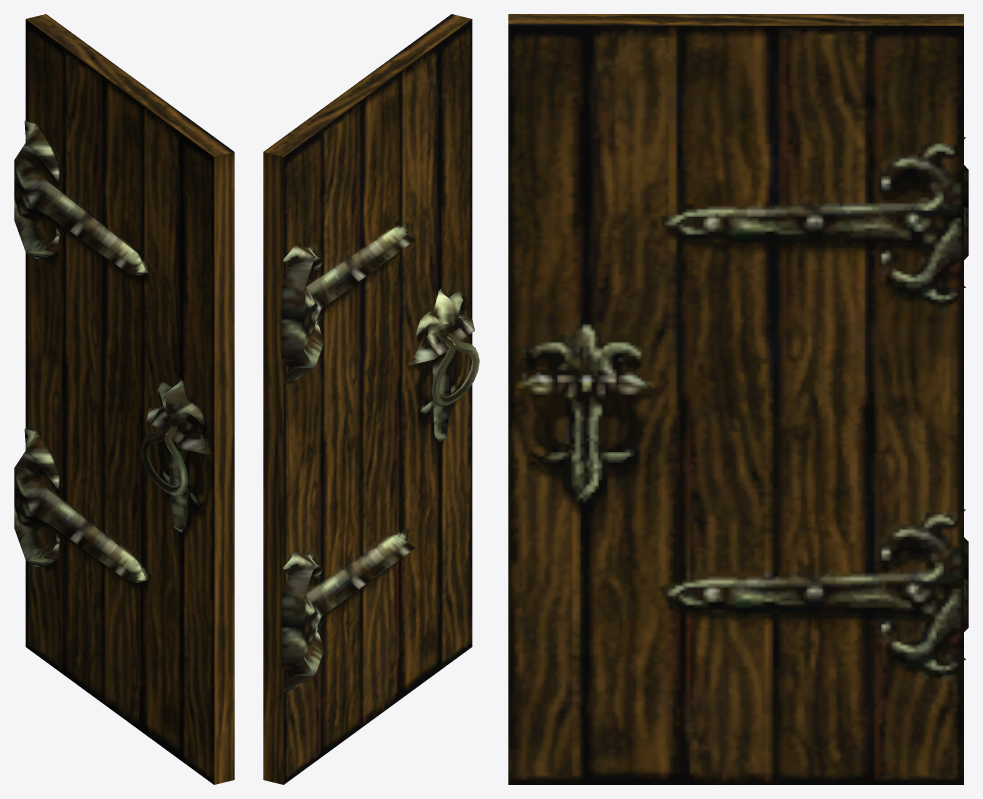
The model's file is LAKETOWN_PUB_ANIM_PUB_DOOR1__AI.fbx.
The picture shows the model from 3 angles, left to right: view 1: azimuth 30°, elevation 25°; view 2: azimuth 150°, elevation 25°; view 3: azimuth 270°, elevation 25°; orthographic projection. The views are drawn at different scales.
Visible parts, largest first — view 1: LAKETOWN_PUB_ANIM_PUB_DOOR1__AI; view 2: LAKETOWN_PUB_ANIM_PUB_DOOR1__AI; view 3: LAKETOWN_PUB_ANIM_PUB_DOOR1__AI.
Boxes of the visible parts, x1,y1,x2,y2 form: LAKETOWN_PUB_ANIM_PUB_DOOR1__AI: (14, 14, 234, 784); LAKETOWN_PUB_ANIM_PUB_DOOR1__AI: (263, 14, 479, 784); LAKETOWN_PUB_ANIM_PUB_DOOR1__AI: (508, 14, 968, 784).
Size of the model in its own units: 1400 by 20604 by 11330.
Materials: 1 (1 with a texture image).
